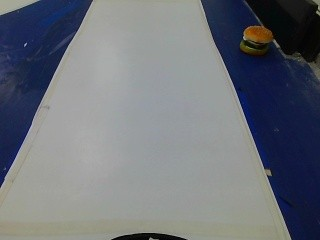burger: (242, 26, 275, 58)
